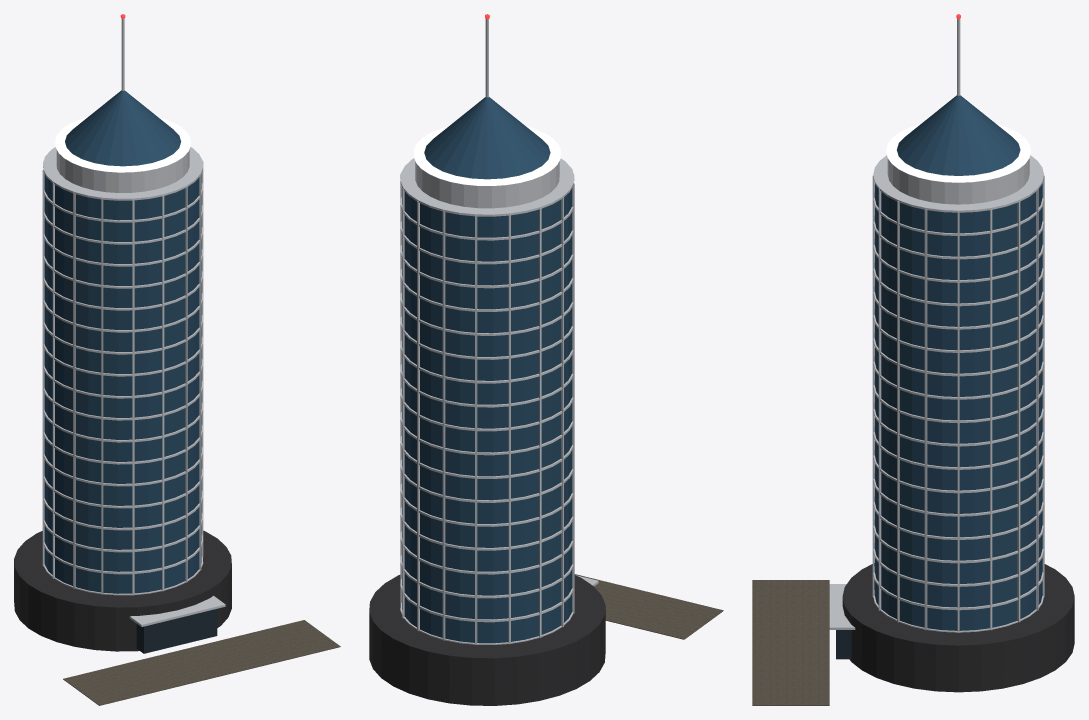
Rendered from OT_Skyscraper_Round.glb.
3 renders of one model, left to right at view 1: azimuth 30°, elevation 25°; view 2: azimuth 150°, elevation 25°; view 3: azimuth 270°, elevation 25°, orthographic. The views are drawn at different scales.
Visible parts, largest first — view 1: OT_Skyscraper_Round_BlueGlass__2b4d66, OT_Skyscraper_Round_Mullion__c9ccd1, OT_Skyscraper_Round_Granite, OT_Skyscraper_Round_Pavement, OT_Skyscraper_Round_Glass__22303a, OT_Skyscraper_Round_LEDStrip__e8f2ff; view 2: OT_Skyscraper_Round_BlueGlass__2b4d66, OT_Skyscraper_Round_Mullion__c9ccd1, OT_Skyscraper_Round_Granite, OT_Skyscraper_Round_Pavement, OT_Skyscraper_Round_LEDStrip__e8f2ff; view 3: OT_Skyscraper_Round_BlueGlass__2b4d66, OT_Skyscraper_Round_Mullion__c9ccd1, OT_Skyscraper_Round_Granite, OT_Skyscraper_Round_Pavement, OT_Skyscraper_Round_LEDStrip__e8f2ff.
Part boxes in pixels (x1,y1,x2,y2): OT_Skyscraper_Round_BlueGlass__2b4d66: [44, 90, 201, 593]; OT_Skyscraper_Round_Mullion__c9ccd1: [42, 18, 225, 626]; OT_Skyscraper_Round_Granite: [14, 530, 231, 651]; OT_Skyscraper_Round_Pavement: [63, 620, 340, 705]; OT_Skyscraper_Round_Glass__22303a: [136, 609, 217, 653]; OT_Skyscraper_Round_LEDStrip__e8f2ff: [55, 117, 190, 172]; OT_Skyscraper_Round_BlueGlass__2b4d66: [402, 97, 572, 643]; OT_Skyscraper_Round_Mullion__c9ccd1: [400, 19, 598, 645]; OT_Skyscraper_Round_Granite: [369, 575, 605, 705]; OT_Skyscraper_Round_Pavement: [574, 574, 723, 639]; OT_Skyscraper_Round_LEDStrip__e8f2ff: [414, 126, 560, 185]; OT_Skyscraper_Round_BlueGlass__2b4d66: [874, 95, 1042, 630]; OT_Skyscraper_Round_Mullion__c9ccd1: [829, 19, 1044, 632]; OT_Skyscraper_Round_Granite: [842, 563, 1074, 692]; OT_Skyscraper_Round_Pavement: [752, 580, 829, 705]; OT_Skyscraper_Round_LEDStrip__e8f2ff: [886, 124, 1030, 182].
Bounding box in the file's own units: 46 × 108 × 50.
Materials: 7 (2 with a texture image).
